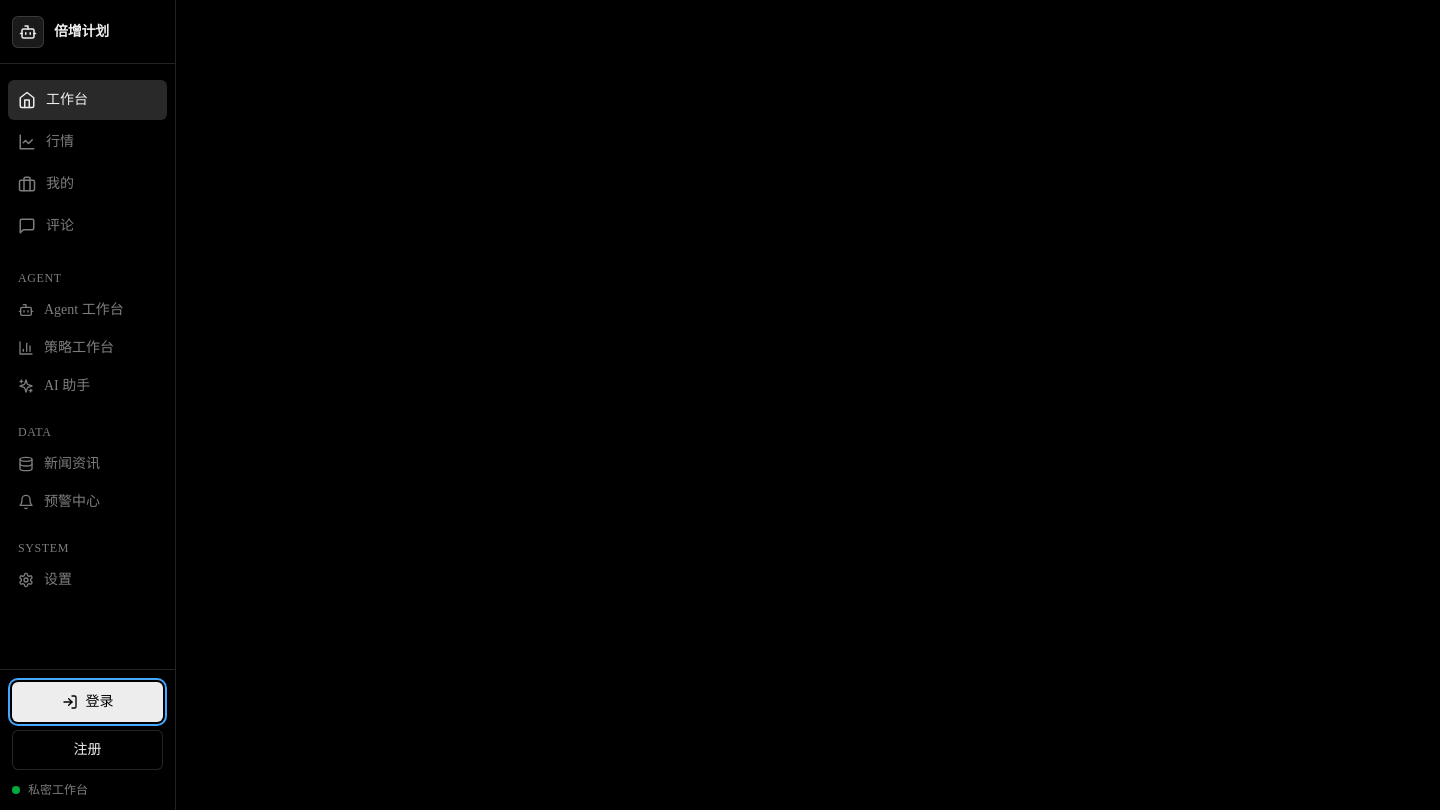
Scenario: Navbar auth dialog › opens login as an accessible dialog and closes with Escape
This screenshot has width=1440, height=810.
Click the button "登录".
click(88, 702)  # box [12, 682, 163, 722]
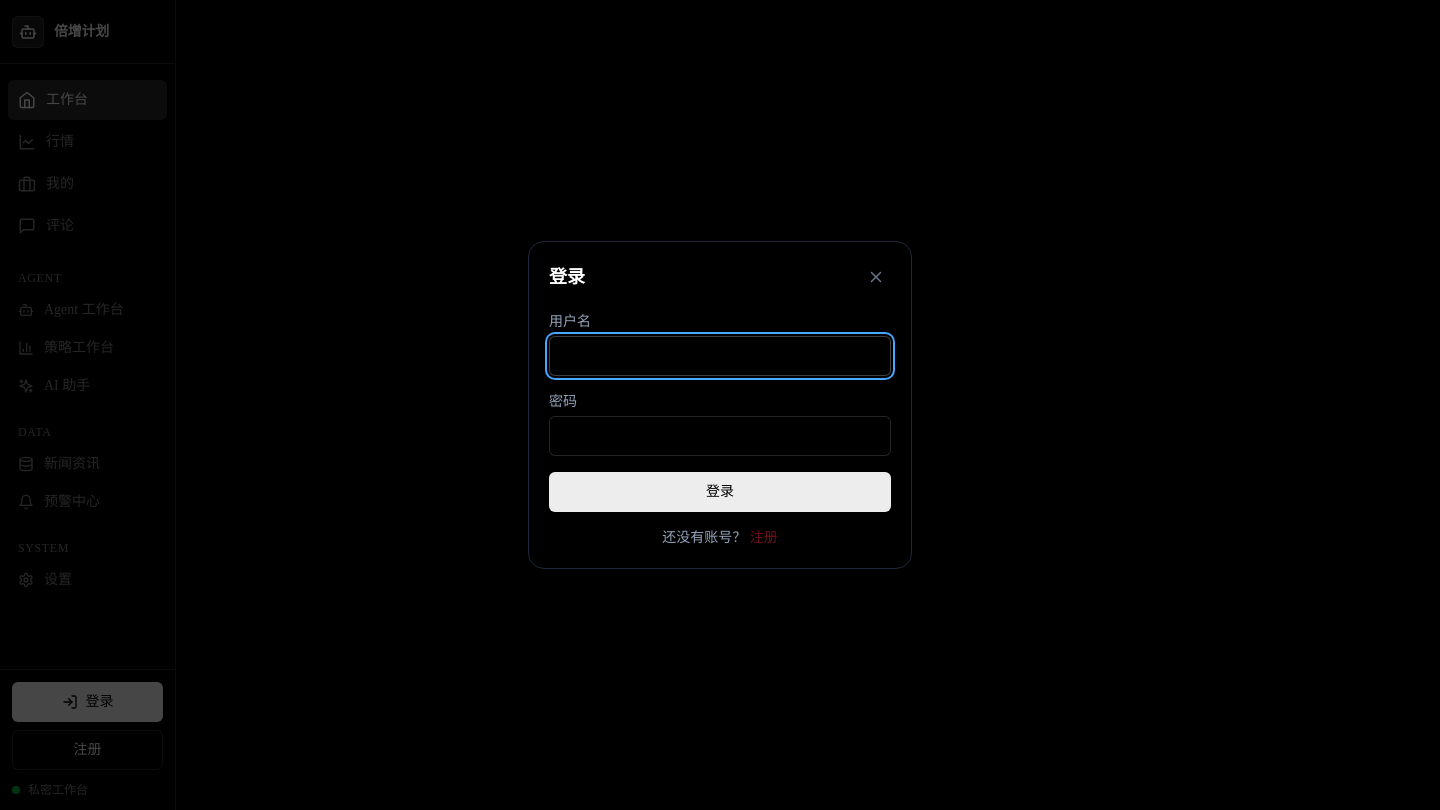
Press Escape
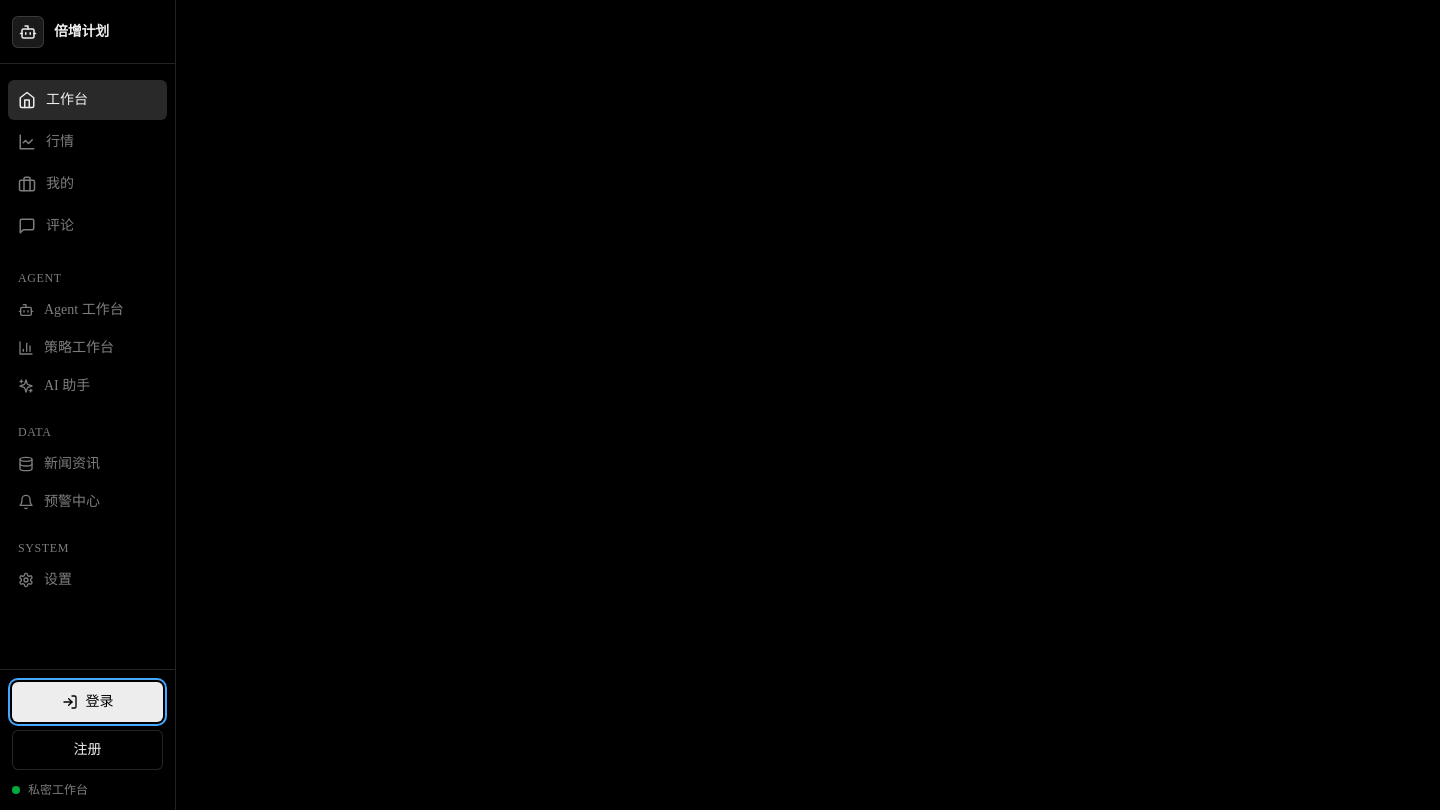
Now the dialog is gone
